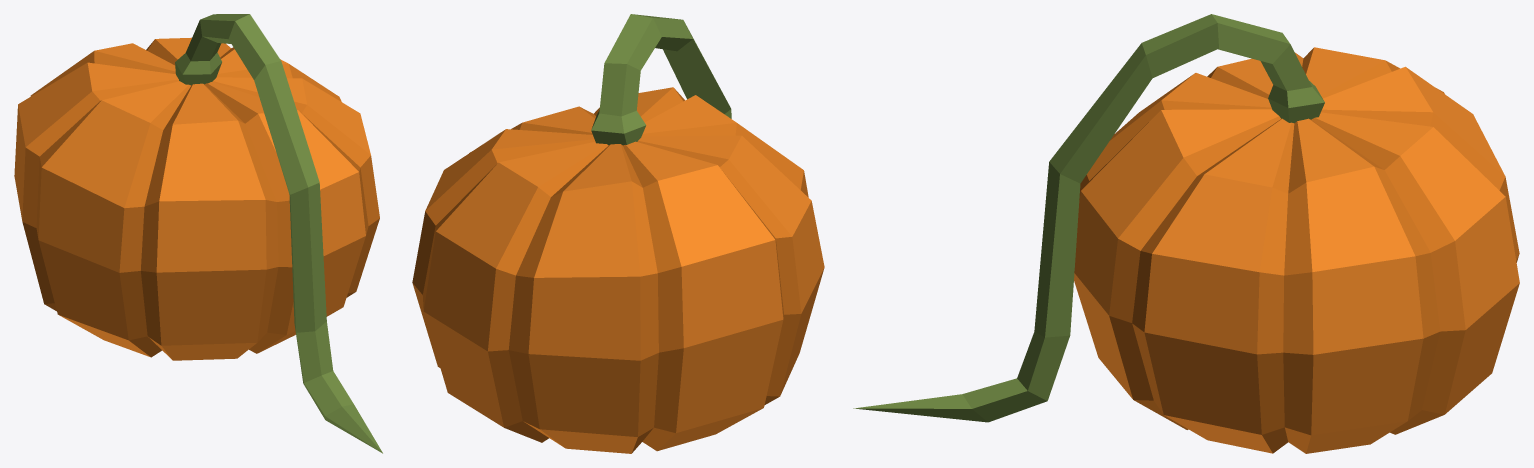
Rendered from pumpkin_plant.glb.
3 renders of one model, left to right at view 1: azimuth 30°, elevation 25°; view 2: azimuth 150°, elevation 25°; view 3: azimuth 270°, elevation 25°, orthographic. The views are drawn at different scales.
Visible parts, largest first — view 1: SM_Prop_Pumpkin_01_L; view 2: SM_Prop_Pumpkin_01_L; view 3: SM_Prop_Pumpkin_01_L.
Part boxes in pixels (box(x1,y1,x2,y2)): SM_Prop_Pumpkin_01_L: box(14, 14, 382, 453); SM_Prop_Pumpkin_01_L: box(412, 14, 824, 453); SM_Prop_Pumpkin_01_L: box(853, 14, 1519, 453).
Size of the model in its own units: 0.5415 by 0.5341 by 0.8032.
Materials: 1 (1 with a texture image).
